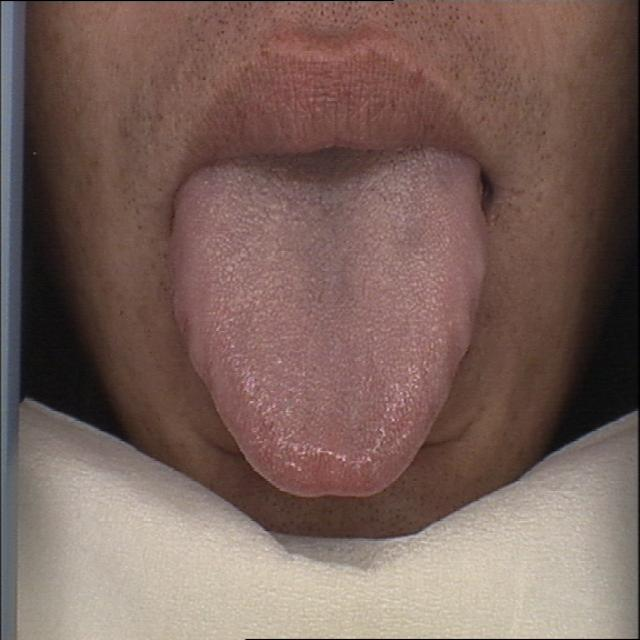tongue: (171, 158, 493, 506)
